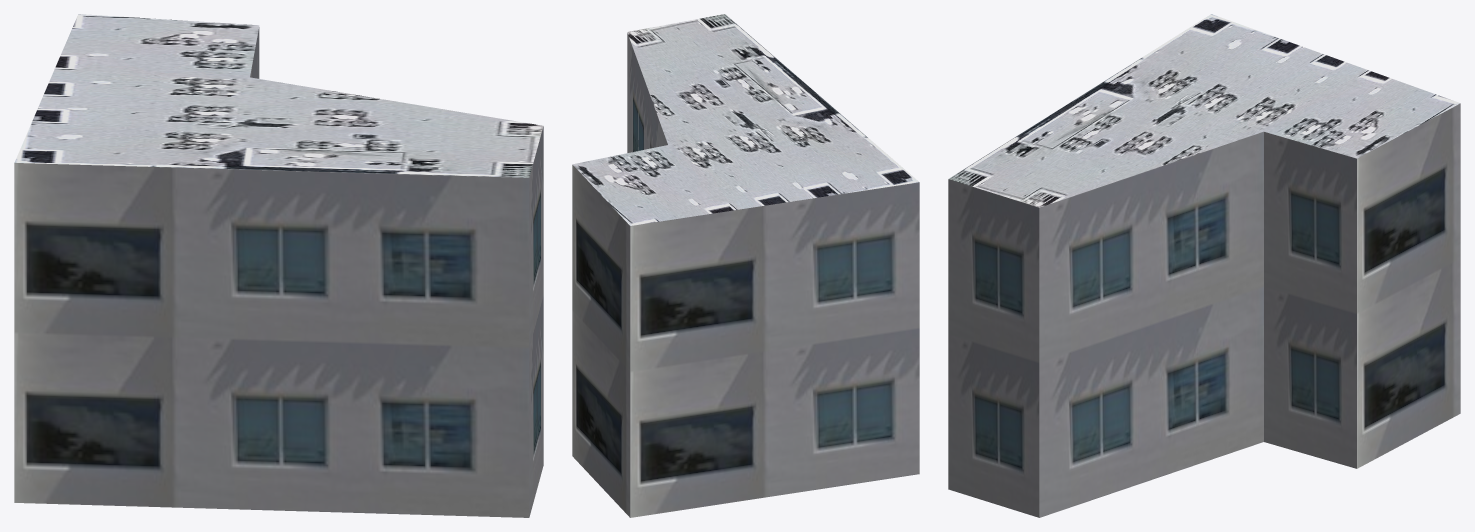
Rendered from ResTex__4822.fbx.
The picture shows the model from 3 angles, left to right: view 1: azimuth 30°, elevation 25°; view 2: azimuth 150°, elevation 25°; view 3: azimuth 270°, elevation 25°; orthographic projection. The views are drawn at different scales.
Parts seen in each view (by area): view 1: CityEngineMaterial_10_m, CityEngineMaterial_8_m; view 2: CityEngineMaterial_10_m, CityEngineMaterial_8_m; view 3: CityEngineMaterial_10_m, CityEngineMaterial_8_m.
Part boxes in pixels (box(x1,y1,x2,y2)): CityEngineMaterial_10_m: box(14, 27, 543, 517); CityEngineMaterial_8_m: box(14, 14, 543, 177); CityEngineMaterial_10_m: box(572, 33, 919, 517); CityEngineMaterial_8_m: box(572, 14, 919, 225); CityEngineMaterial_10_m: box(948, 103, 1460, 517); CityEngineMaterial_8_m: box(948, 14, 1460, 207).
Bounding box in the file's own units: 8.03 × 6 × 8.98.
2 materials, 2 textured.
